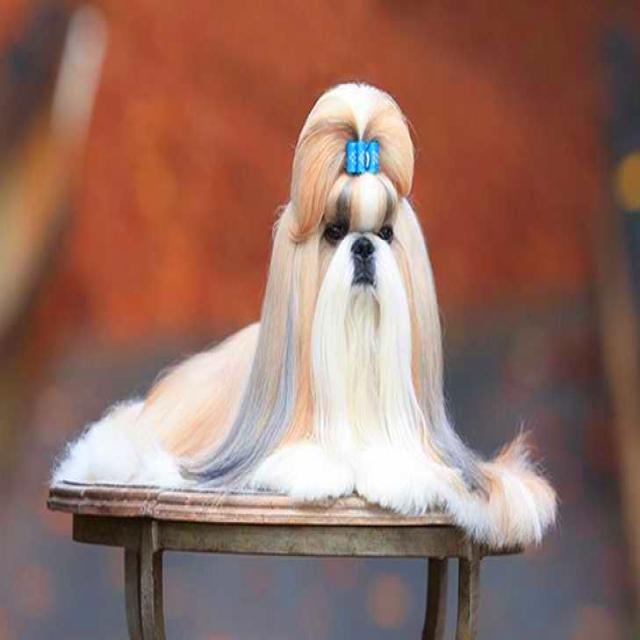dog: (52, 83, 557, 550)
